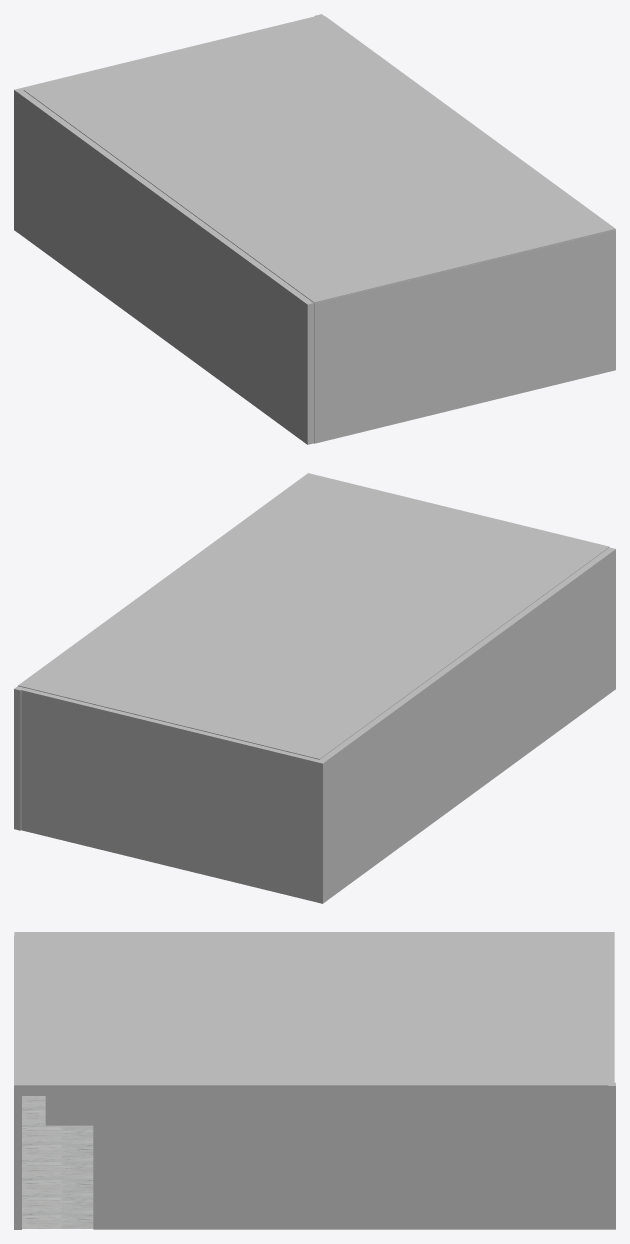
Rendered from breakroom.fbx.
The picture shows the model from 3 angles, top to bottom: view 1: azimuth 30°, elevation 25°; view 2: azimuth 150°, elevation 25°; view 3: azimuth 270°, elevation 25°; orthographic projection. The views are drawn at different scales.
Parts seen in each view (by area): view 1: celling breakroom, Cube.010, Cube.012, Cube.009; view 2: celling breakroom, Cube.009, Cube.010, Cube.011; view 3: celling breakroom, Cube.011, floorbreakroom, Cube.010, Cube.012, Cube.009.
Boxes of the visible parts, left/top/right/bottom form: celling breakroom: left=23, top=16, right=615, bottom=303; Cube.010: left=18, top=91, right=313, bottom=444; Cube.012: left=314, top=230, right=615, bottom=443; Cube.009: left=14, top=16, right=317, bottom=232; celling breakroom: left=18, top=473, right=609, bottom=759; Cube.009: left=21, top=688, right=326, bottom=903; Cube.010: left=320, top=547, right=615, bottom=900; Cube.011: left=14, top=686, right=23, bottom=830; celling breakroom: left=14, top=934, right=608, bottom=1095; Cube.011: left=45, top=1082, right=615, bottom=1229; floorbreakroom: left=22, top=1096, right=93, bottom=1228; Cube.010: left=14, top=932, right=606, bottom=934; Cube.012: left=14, top=936, right=21, bottom=1229; Cube.009: left=606, top=932, right=614, bottom=1082.
Bounding box in the file's own units: 9.2 × 4.03 × 15.2.
